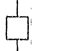Cable Termination Box: (3, 13, 38, 44)
